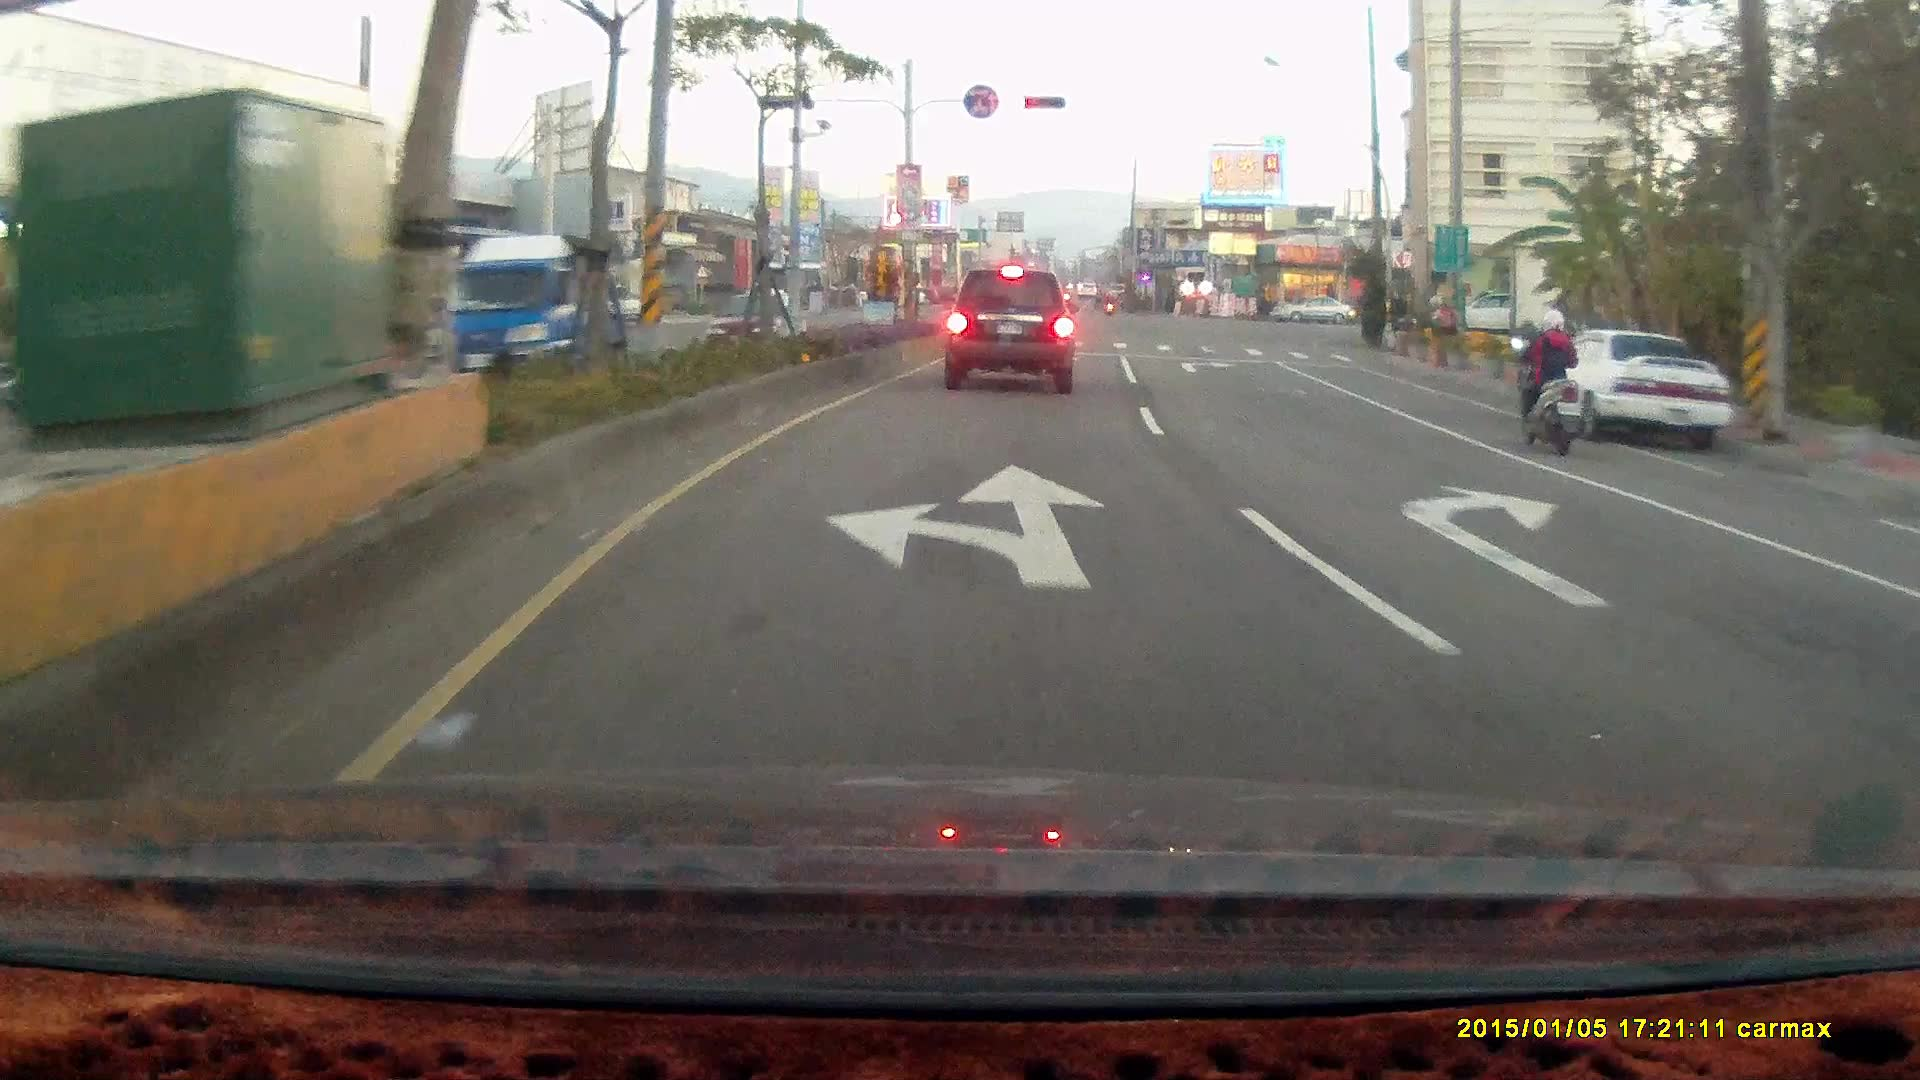rider: (1505, 308, 1585, 456)
vehicle: (421, 233, 633, 380), (1532, 328, 1733, 451), (1539, 329, 1741, 445), (942, 266, 1078, 394), (1896, 493, 1920, 836), (1883, 528, 1920, 690), (1436, 288, 1538, 336), (1269, 292, 1354, 325)
